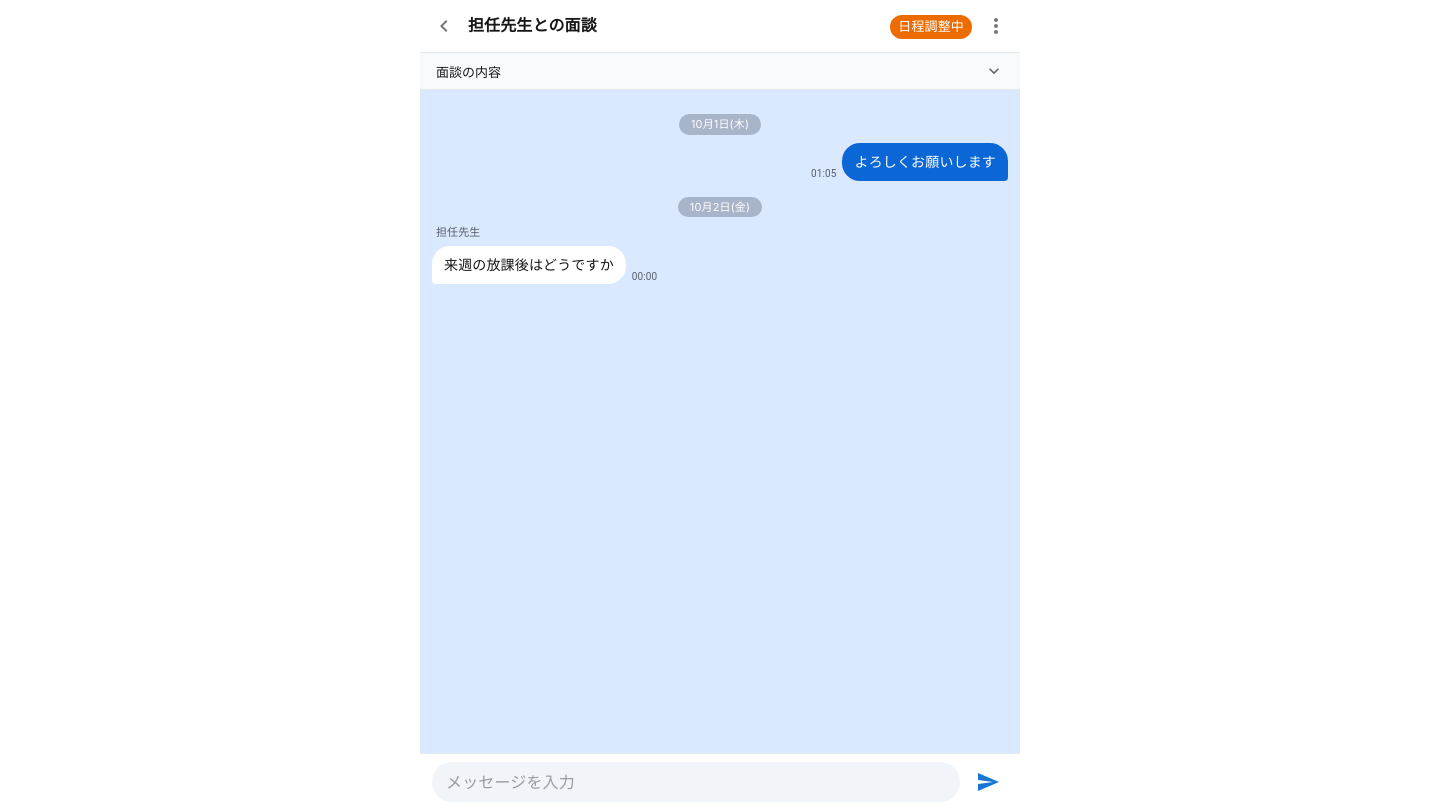
Scenario: InterviewDetailPresenter › キャンセル › 失敗したときはダイアログを開いたまま cancelError を表示する
The width and height of the screenshot is (1440, 810).
Click the button named "メニュー": {"x": 996, "y": 26} x1=976 y1=6 x2=1016 y2=46
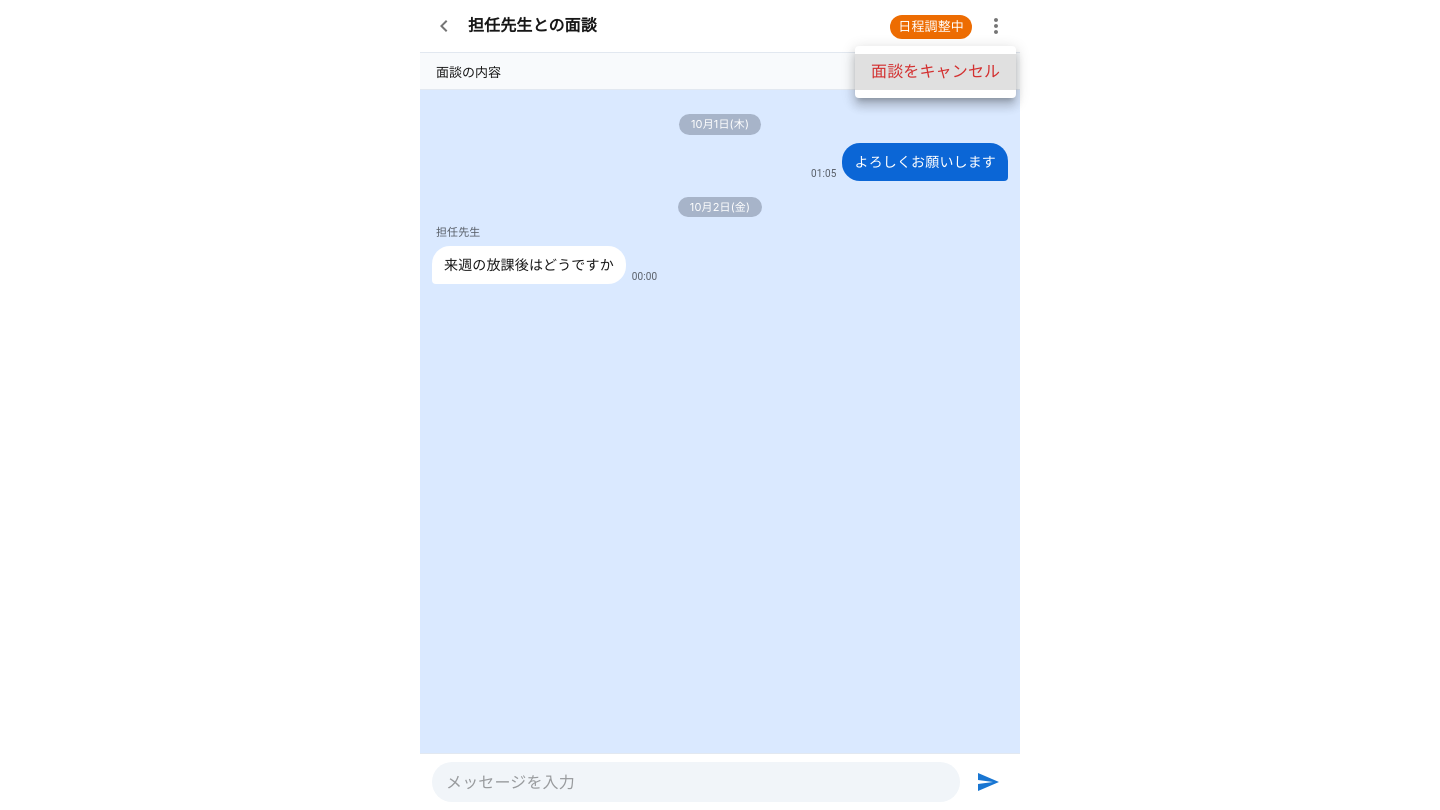
Click the menu item "面談をキャンセル": {"x": 936, "y": 72} x1=855 y1=54 x2=1016 y2=90
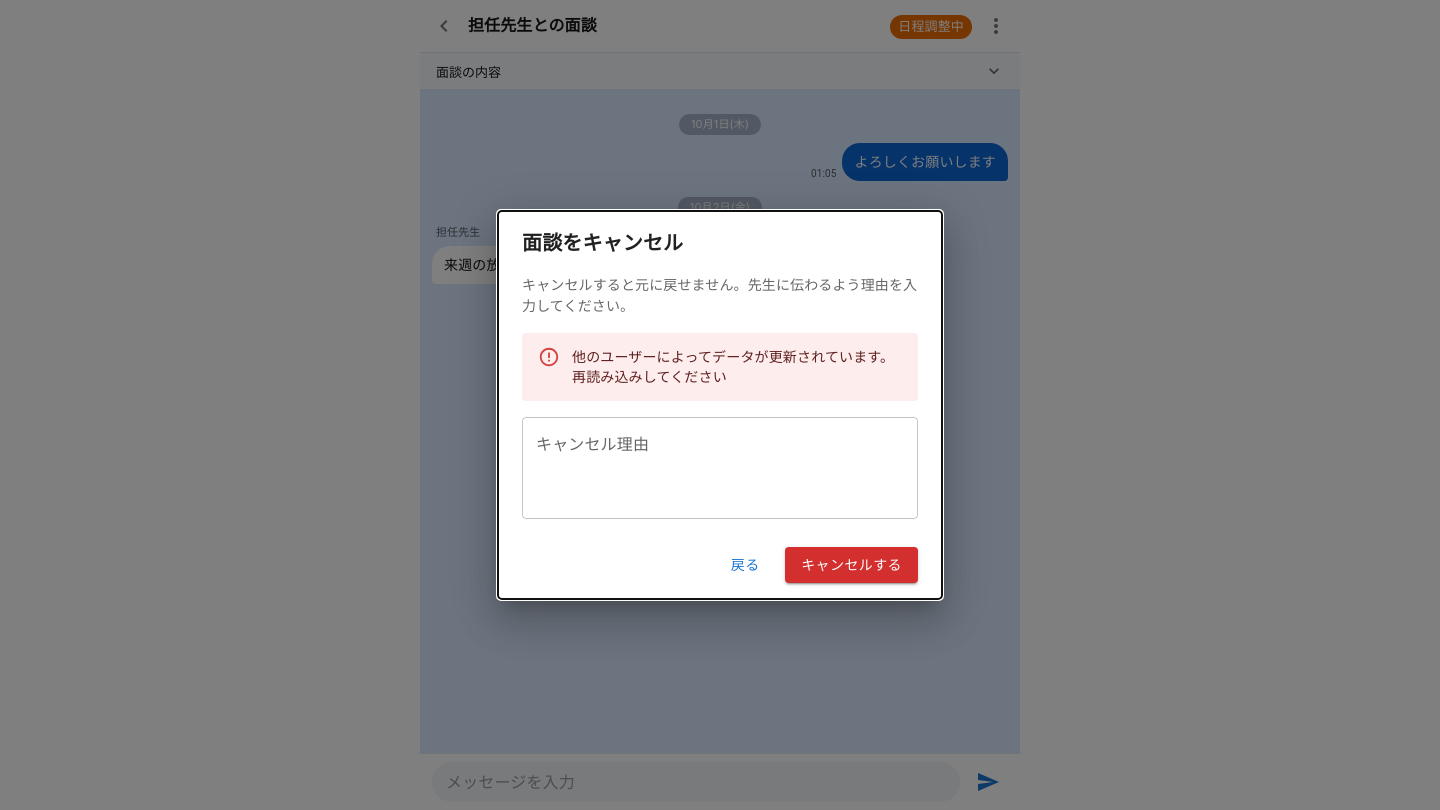
Now the message reads "他のユーザーによってデータが更新されています。再読み込みしてください", box x1=572 y1=349 x2=894 y2=385
